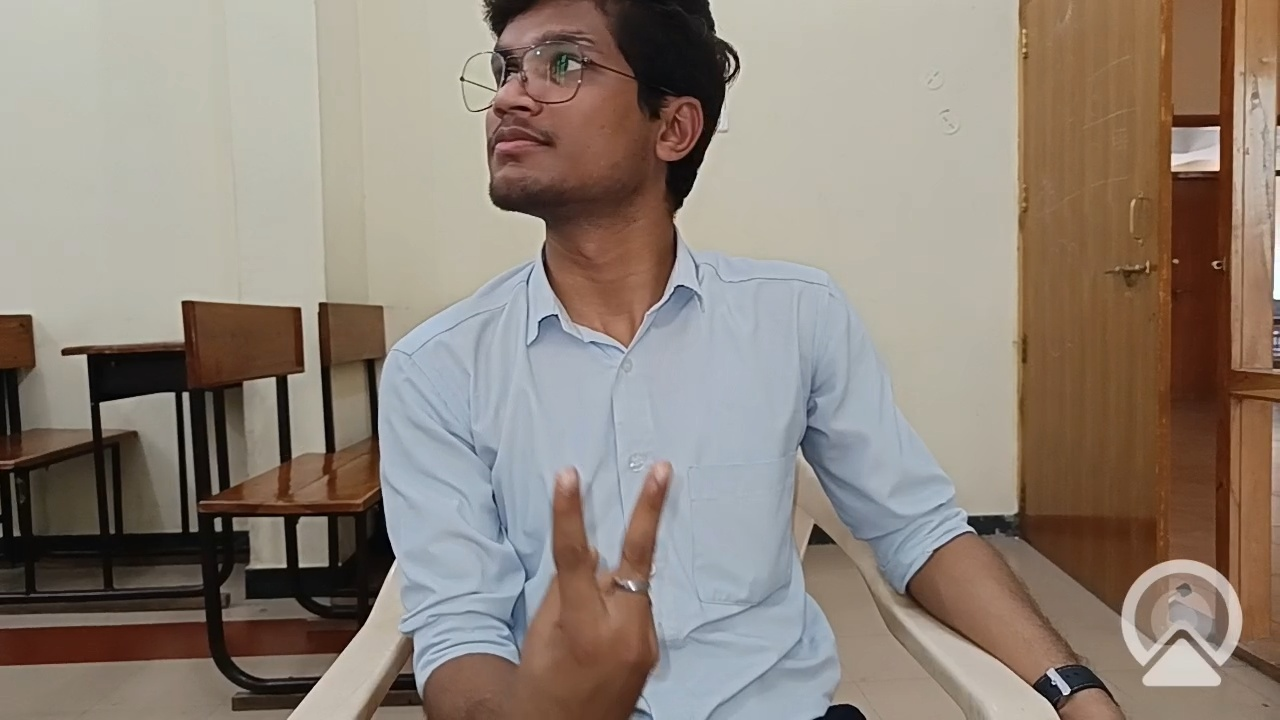V: (471, 419, 749, 720)
